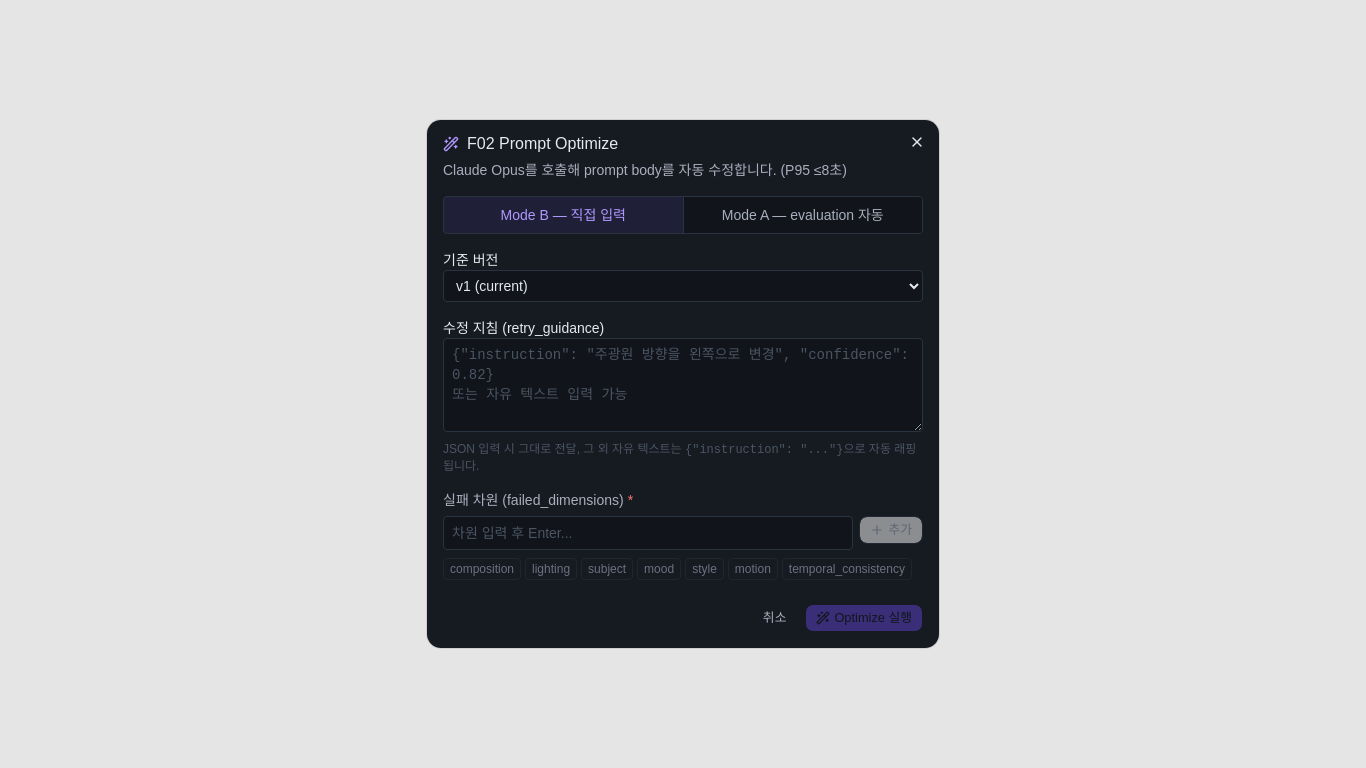
Test: OptimizeDialog › 권장 차원 quick-add 버튼으로 dimension이 추가된다
Click the button with aria-label "lighting 차원 빠른 추가" at (551, 569), box top-left (525, 558), bottom-right (577, 580)
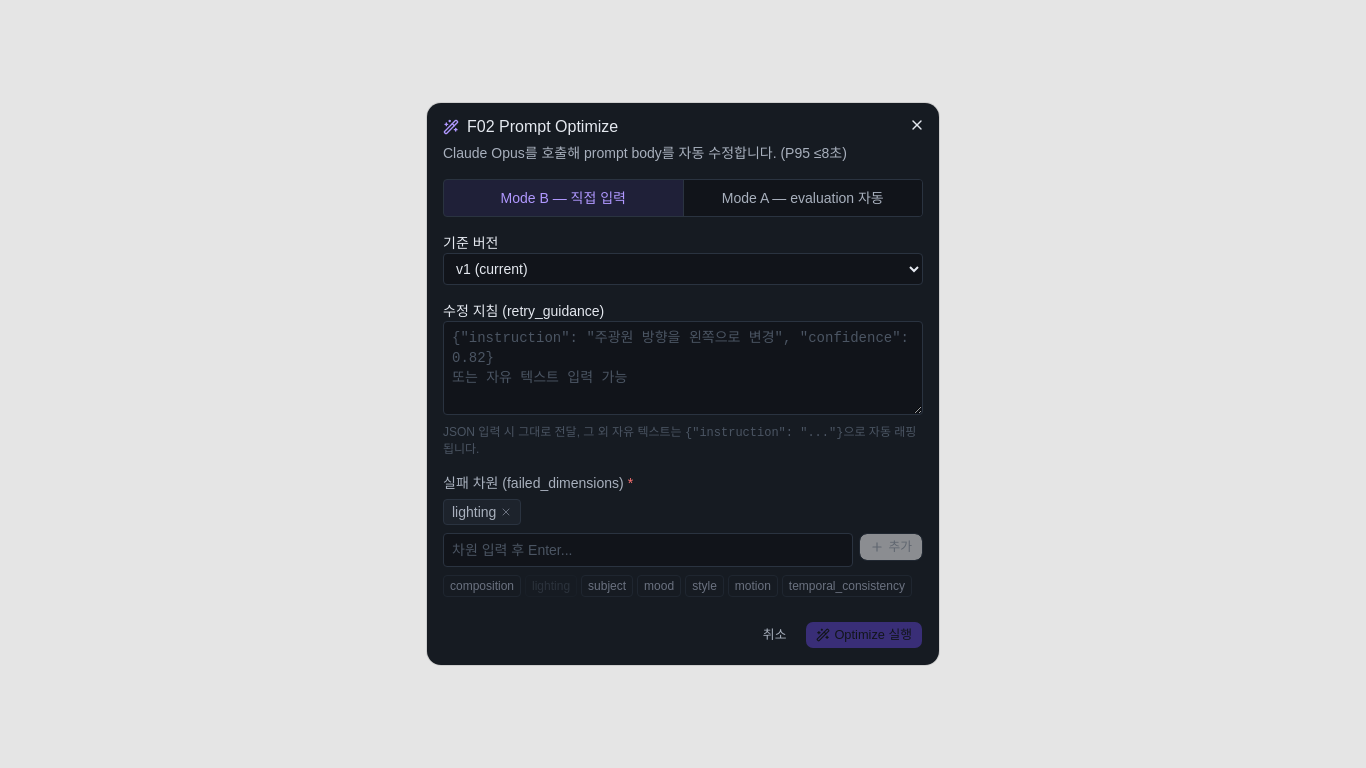
Expected: the text "lighting" is shown, top-left (443, 499), bottom-right (521, 525)
